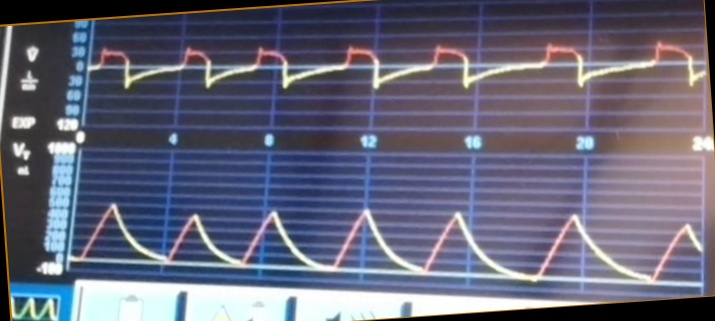Normal Flow: (93, 27, 705, 116)
Normal Volume: (74, 189, 701, 284)
